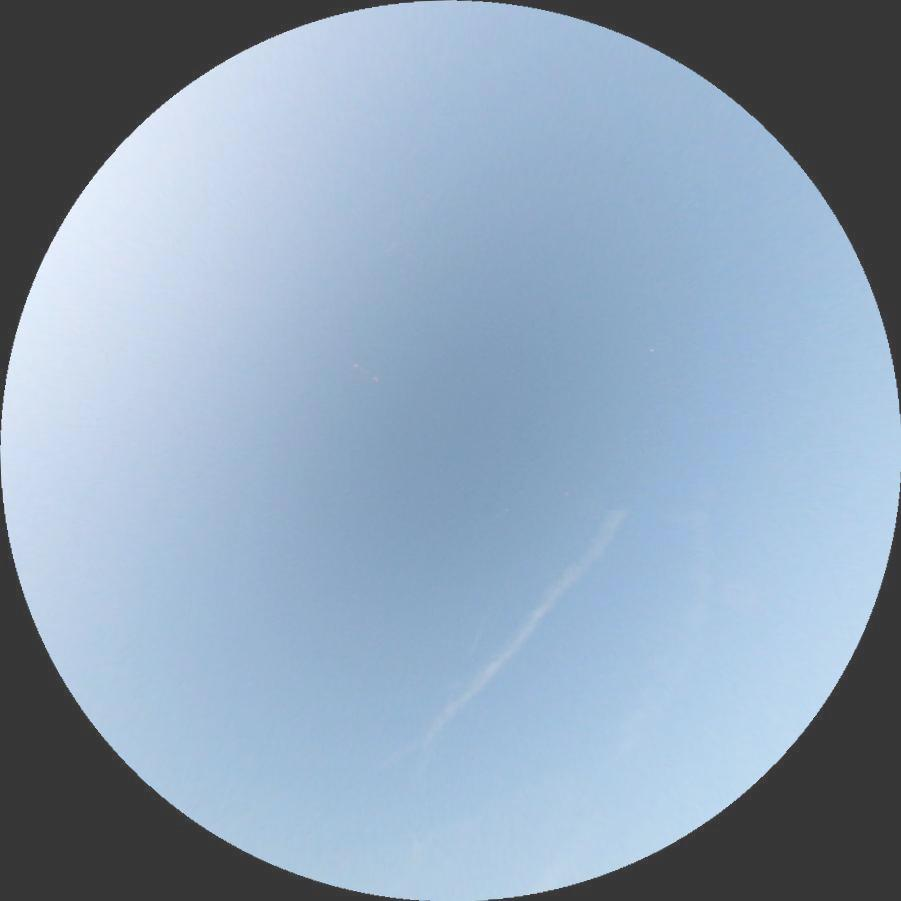contrail young: (486, 506, 510, 524), (382, 243, 397, 257)
